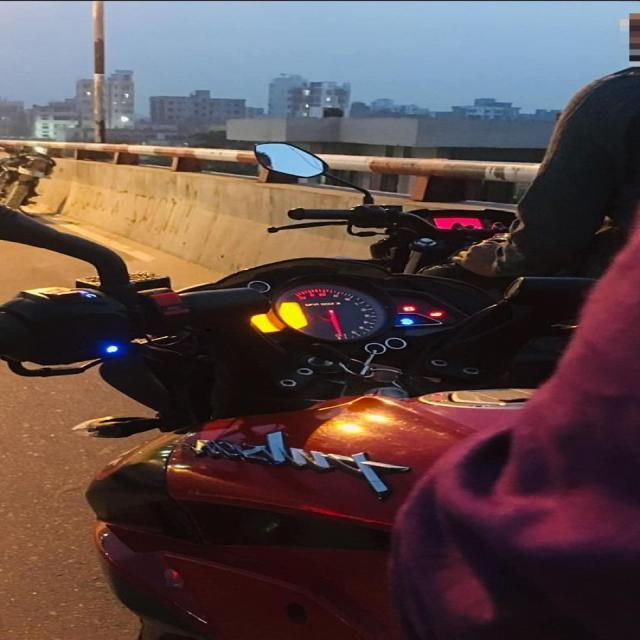Motorbike: (1, 218, 640, 640), (235, 122, 640, 534)
